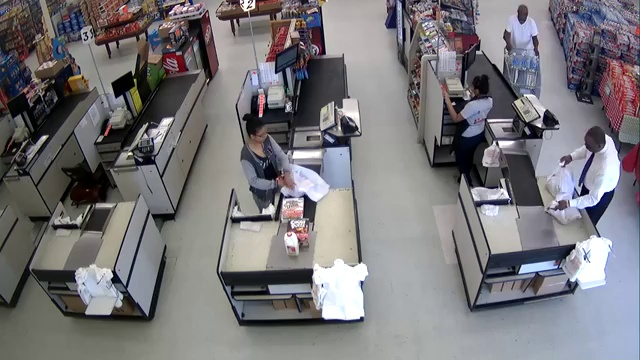face: (587, 133, 602, 152), (255, 128, 268, 144), (518, 9, 528, 20)
